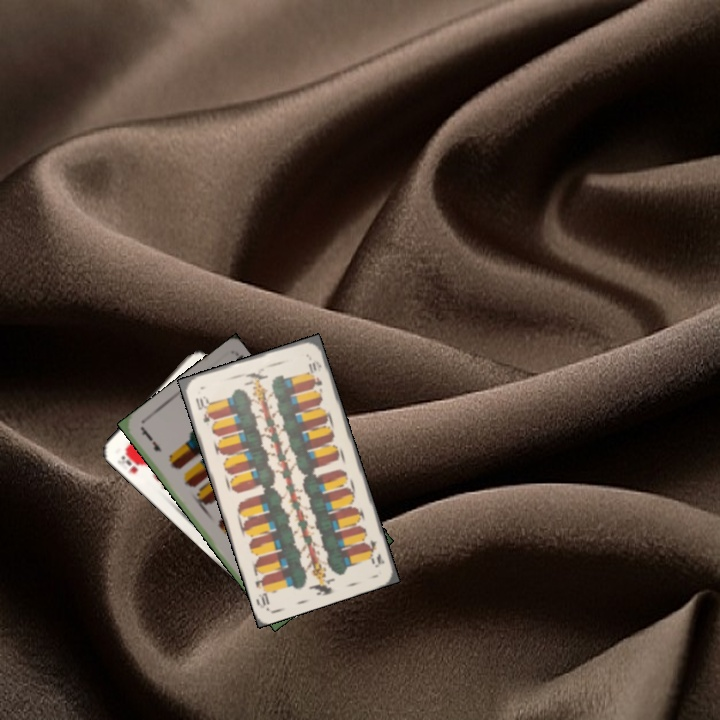E10: (360, 532, 387, 570), (191, 392, 214, 425)
E7: (137, 424, 164, 455)
HK: (117, 446, 145, 476)
